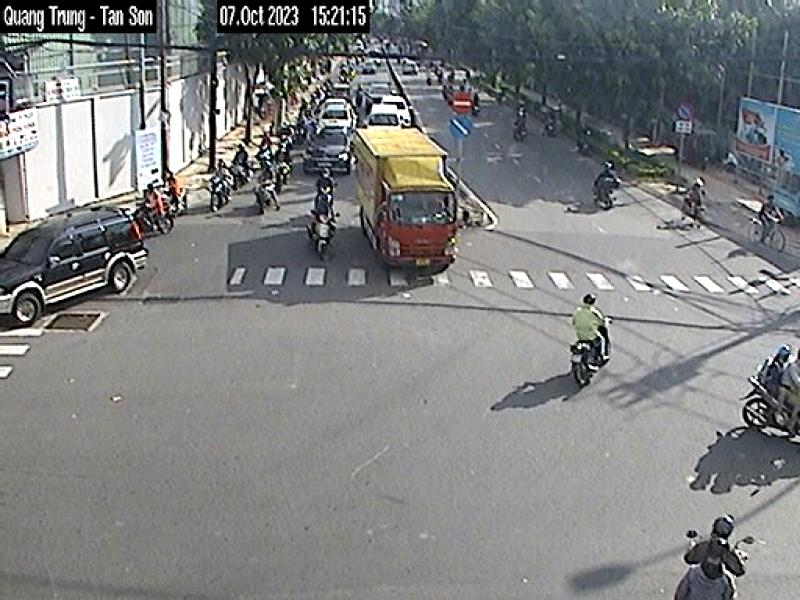car: (0, 206, 147, 322)
motorcycle: (739, 374, 800, 441)
truck: (353, 128, 454, 274)
